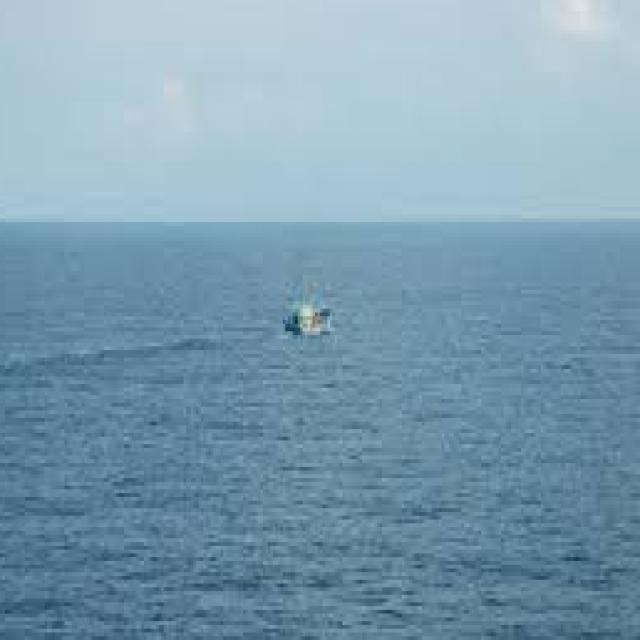fishing boat: (258, 287, 337, 348)
